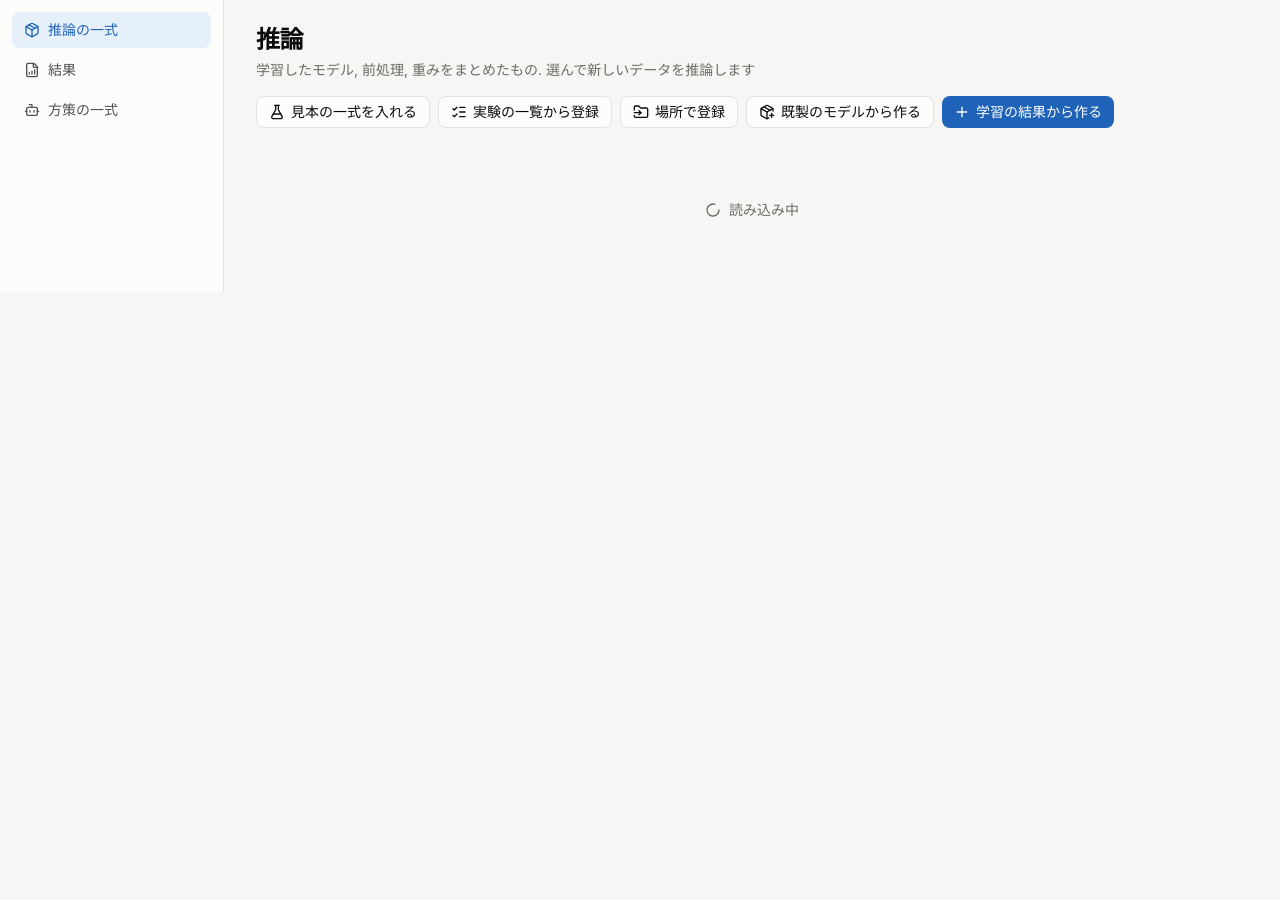
Test: StageApp › 一式を作る欄の書きかけは, 外されるときと project が替わるときに待たずに下書きに書く
Earlier steps of the test are not shown.
Click the button "学習の結果から作る" at (1028,112), box left=942, top=96, right=1114, bottom=128
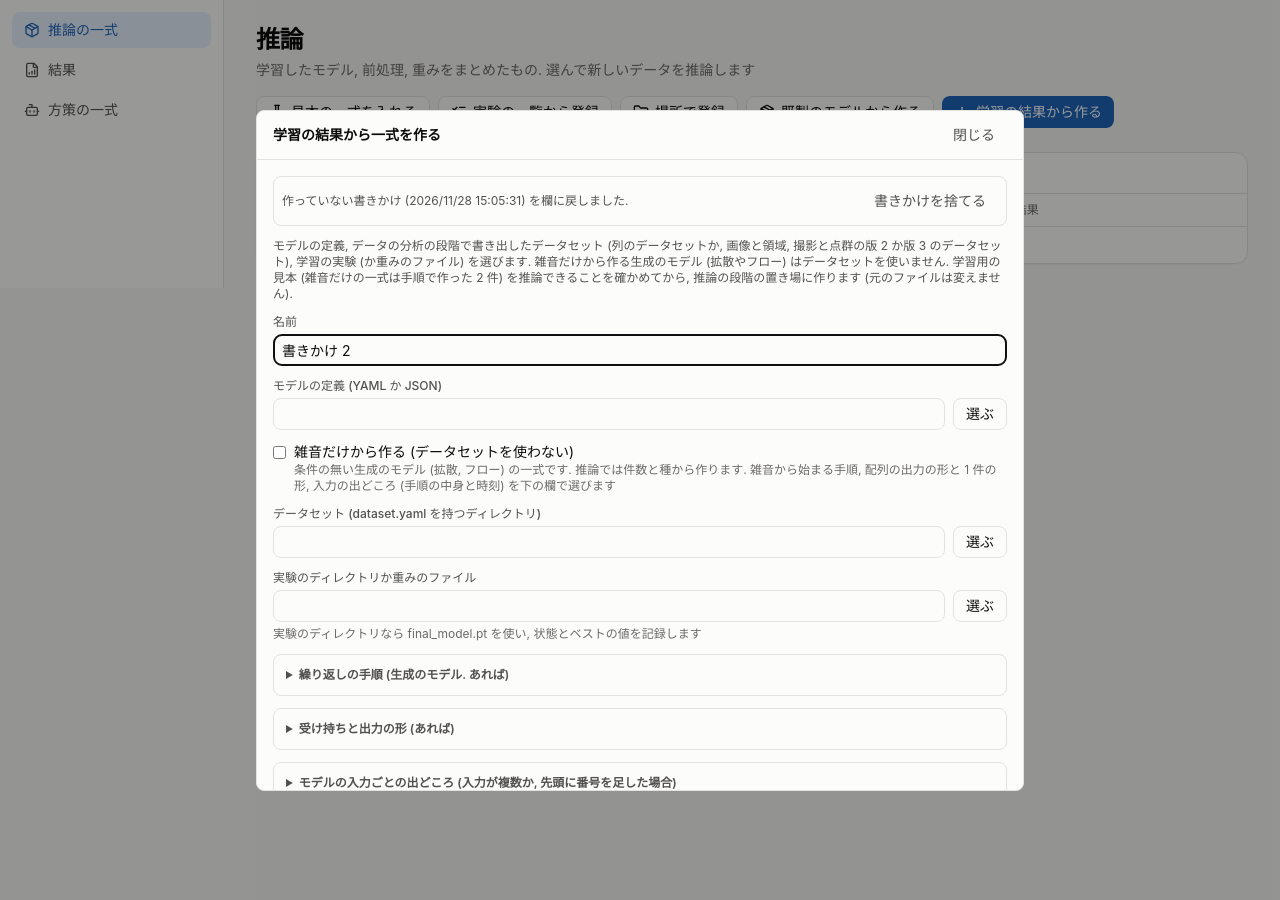
Expected: the field labelled "名前" holds "書きかけ 2", left=273, top=334, right=1007, bottom=366
Click the button "書きかけを捨てる" at (930,200), box left=862, top=184, right=998, bottom=216
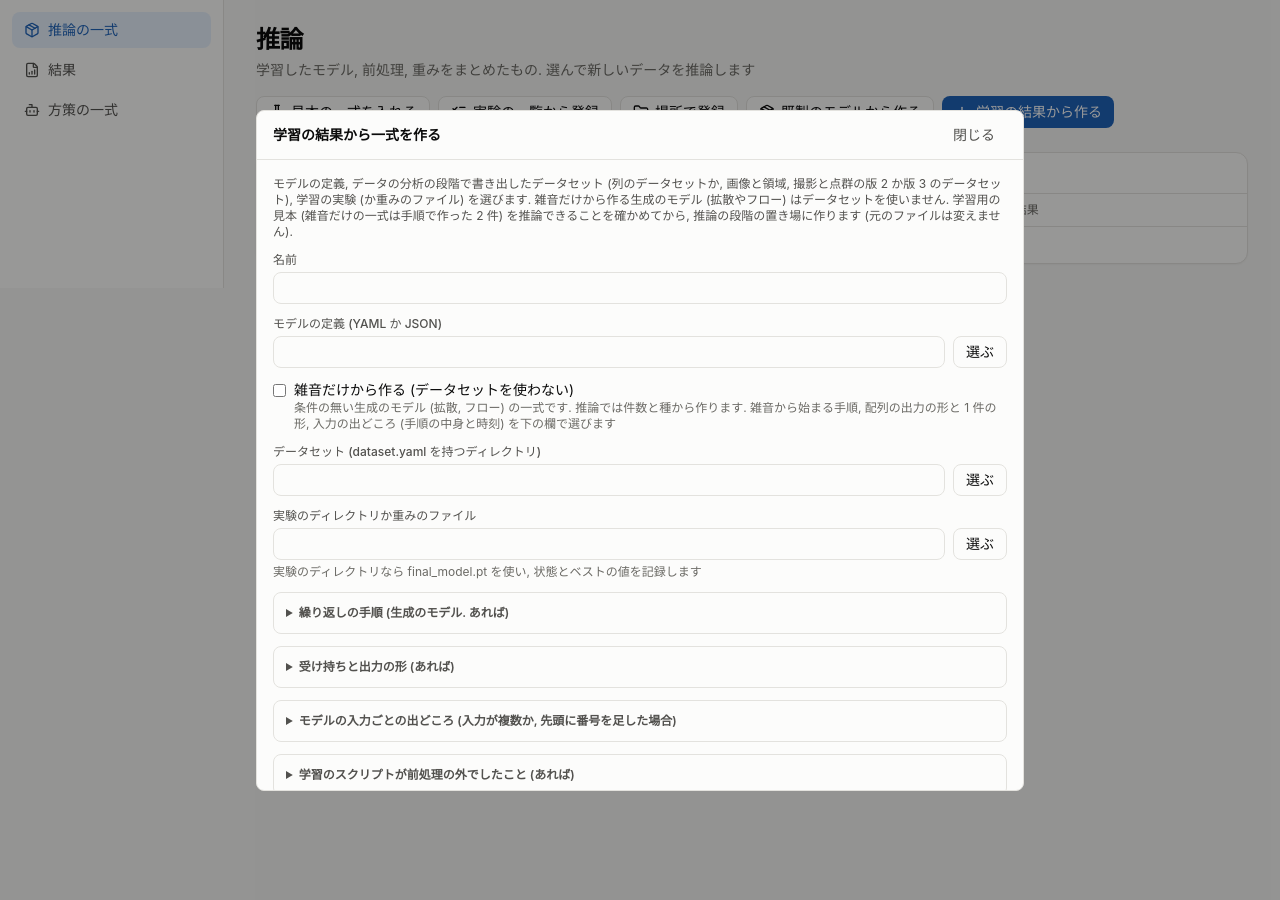
Expected: the field labelled "名前" is empty, left=273, top=272, right=1007, bottom=304
